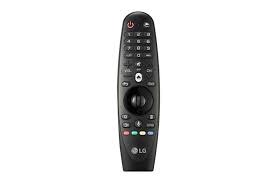remote control: (115, 13, 162, 174)
